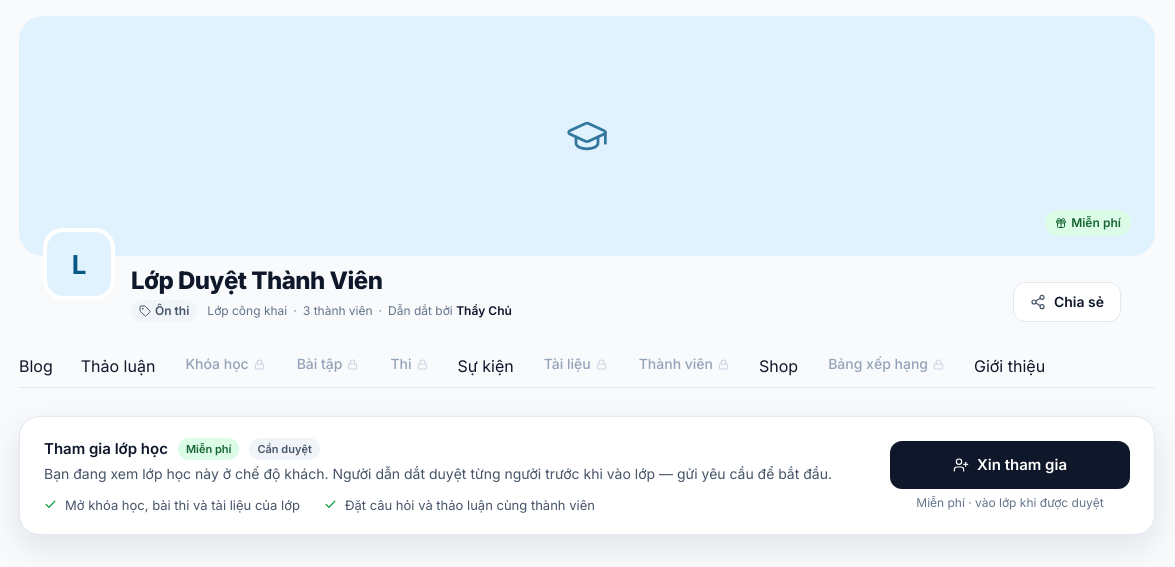
ClassroomLayout - join approval › offers "Xin tham gia" and, once requested, shows the pending status with the member tabs still locked
This screenshot has width=1175, height=567.
Expected: the text "Cần duyệt" is shown, [249,438,320,460]
Click the button "Xin tham gia".
click(1010, 464)  # box [890,440,1130,488]
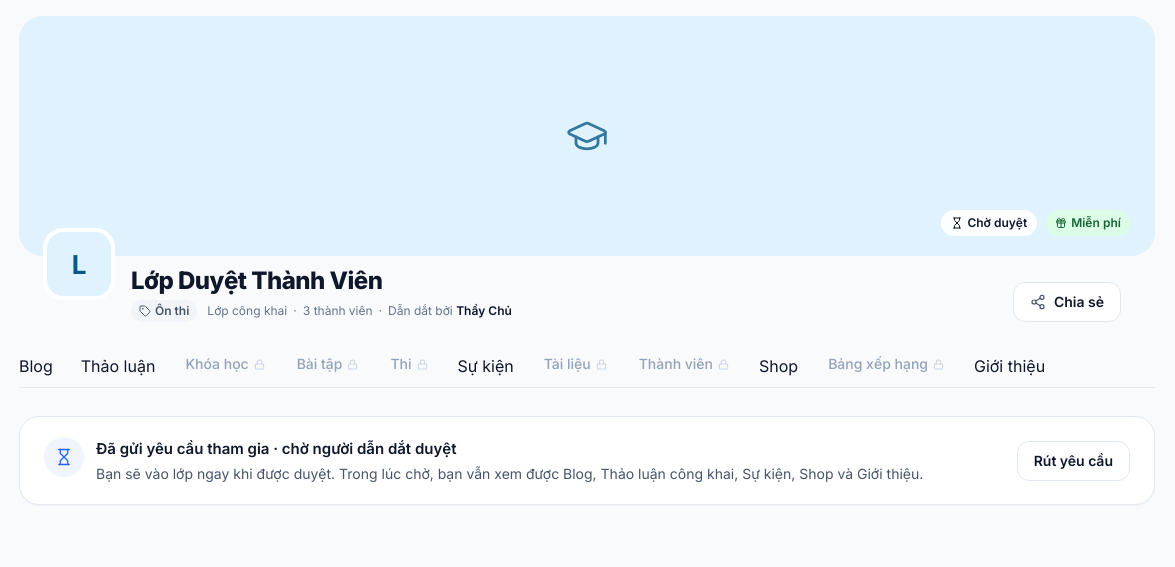
Now the message with test id "join-pending" shows "Đã gửi yêu cầu tham gia · chờ người dẫn dắt duyệt", box [96,439,456,458]
Now the button "Xin tham gia" is gone
Now the element with test id "badge-pending" reads "Chờ duyệt", box [967,215,1027,230]
